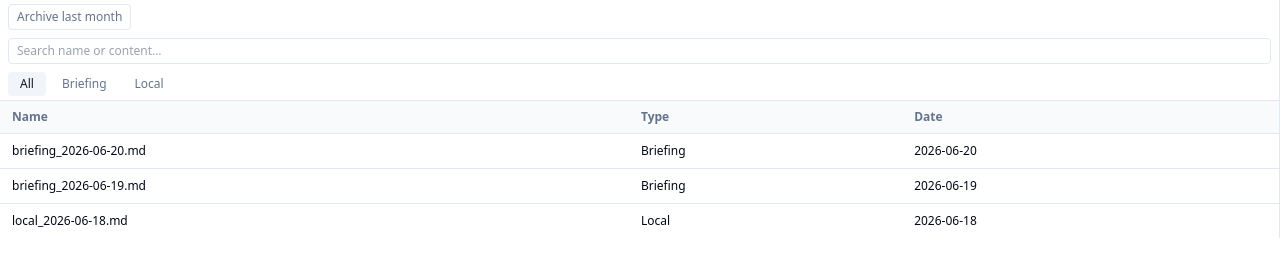
Test case: BriefingDashboard › shows a zero-result state when the search has no matches
The width and height of the screenshot is (1280, 255).
Step 1. Type "zzz" into the search field with test id "briefing-search-input" → point(640, 51), box top-left (8, 38), bottom-right (1271, 64)
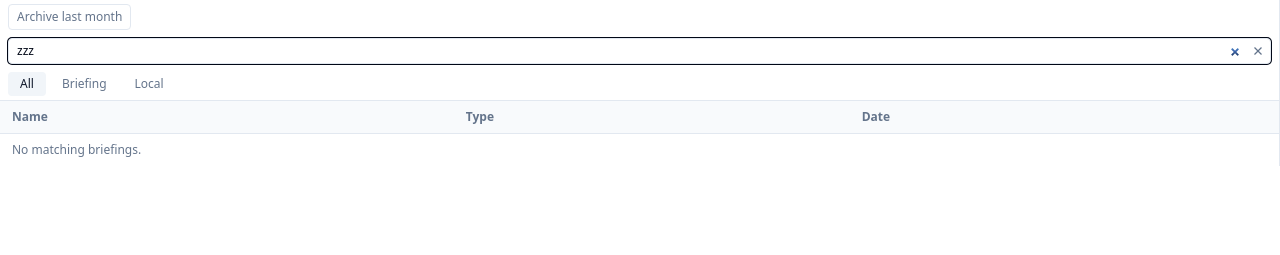
Expected: the text "No matching briefings." is shown, top-left (12, 141), bottom-right (141, 158)
